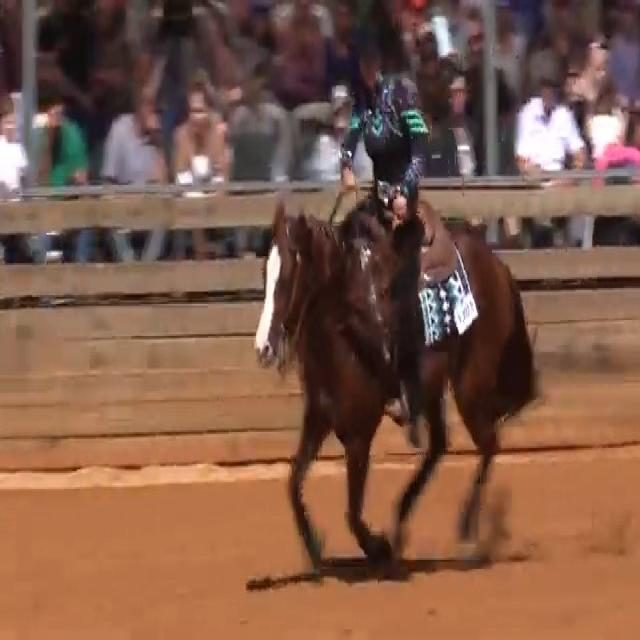horse: (252, 192, 541, 574)
